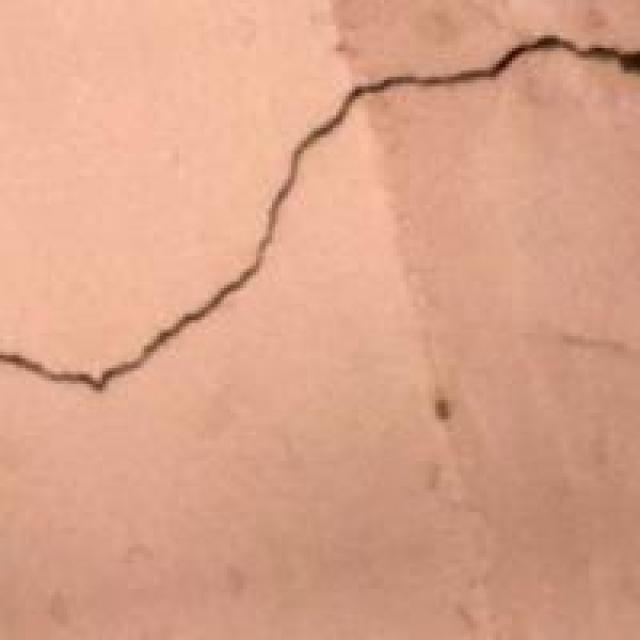crack: (0, 32, 637, 426)
